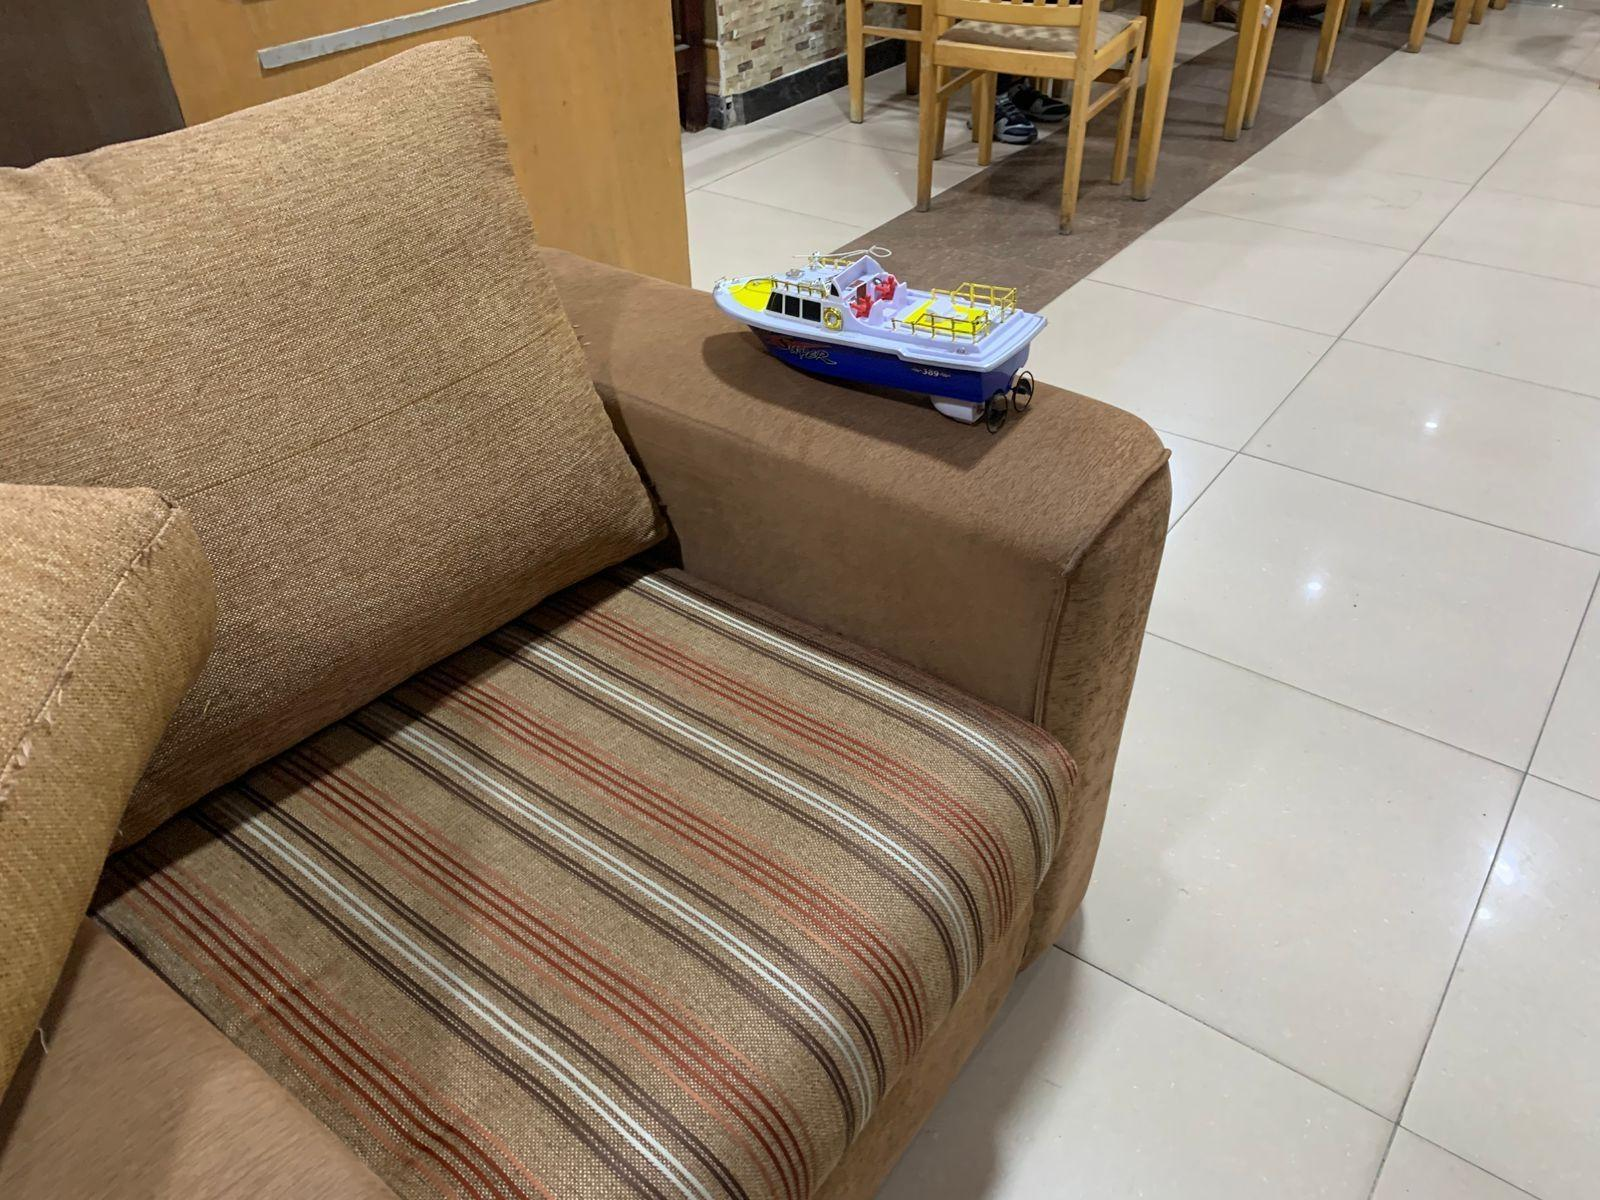Boat: (704, 238, 1058, 442)
